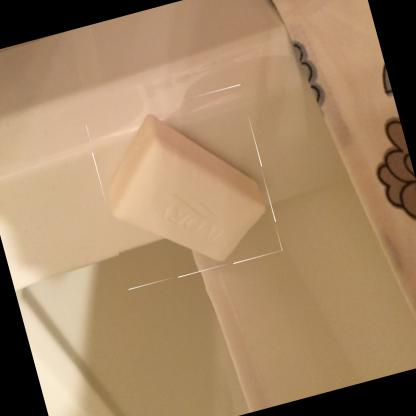soap: (84, 83, 284, 291)
